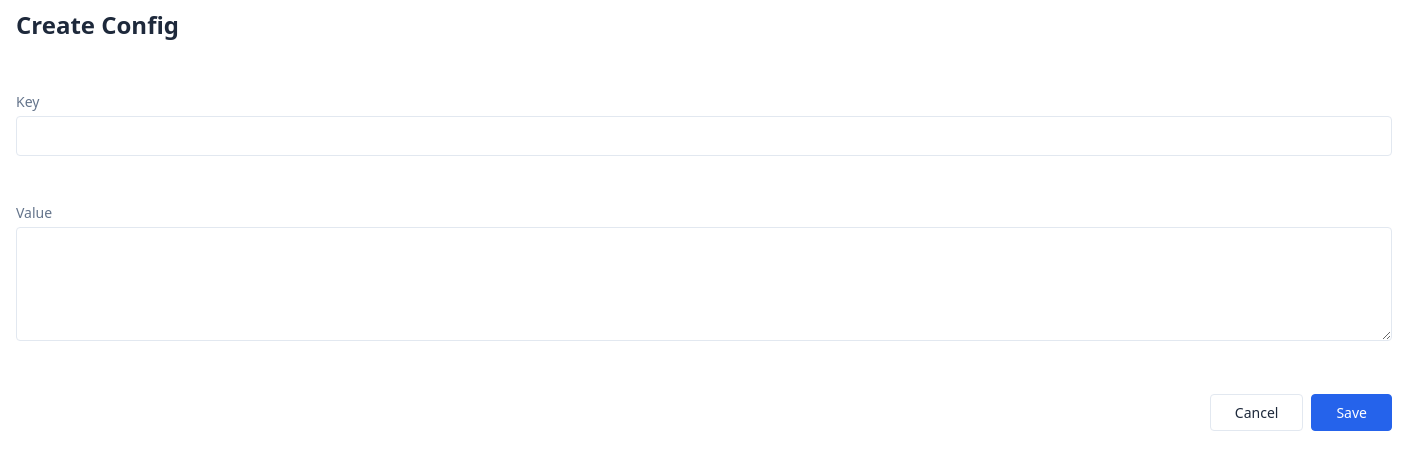
Test case: ConfigForm › create mode › rejects keys with spaces
Type "bad key" into the field labelled "Key" at [704, 136], box top-left (16, 116), bottom-right (1392, 156)
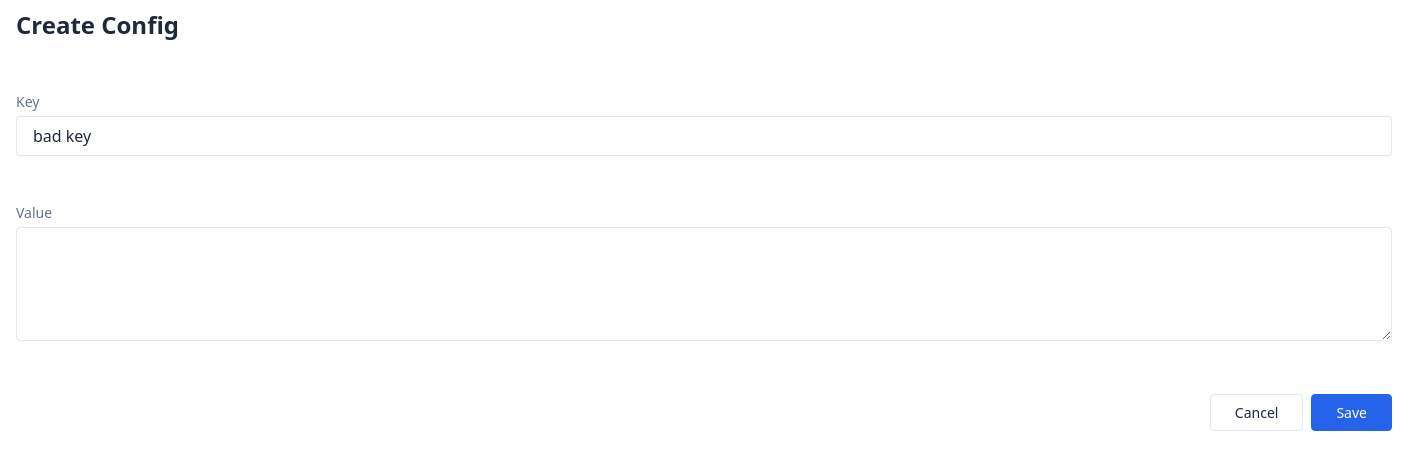
Type "value" into the text box labelled "Value" at [704, 284], box top-left (16, 226), bottom-right (1392, 340)
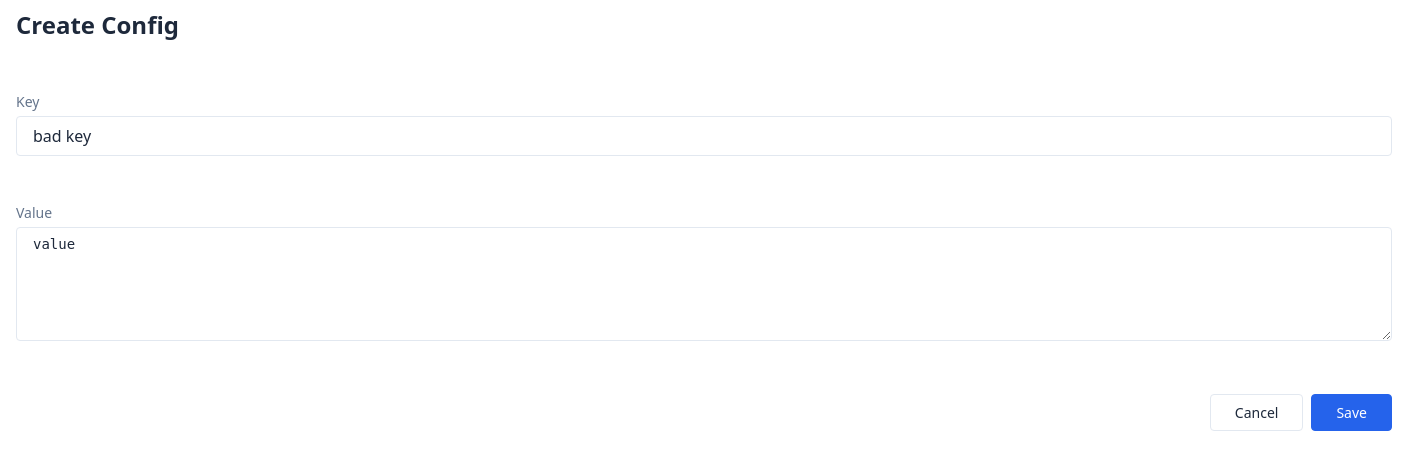
Click the button "Save" at [1352, 412], box top-left (1311, 394), bottom-right (1392, 431)
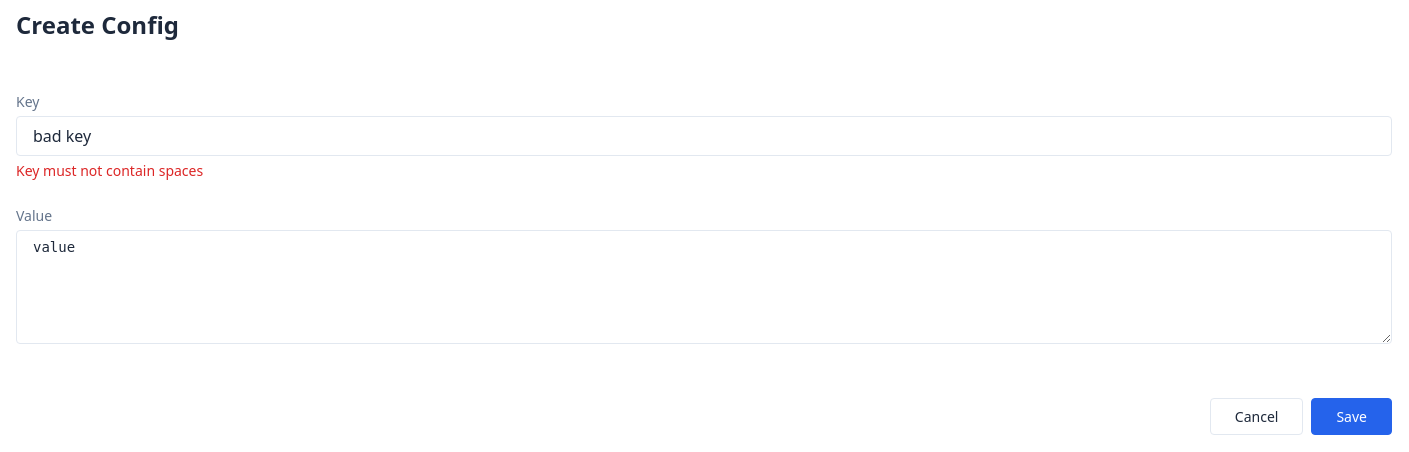
Now the text "Key must not contain spaces" is shown, box top-left (16, 161), bottom-right (203, 180)
